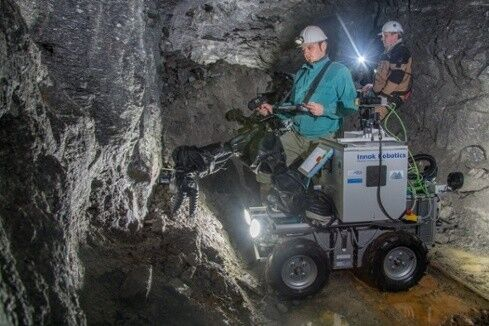device: (256, 23, 358, 168), (363, 20, 414, 121)
